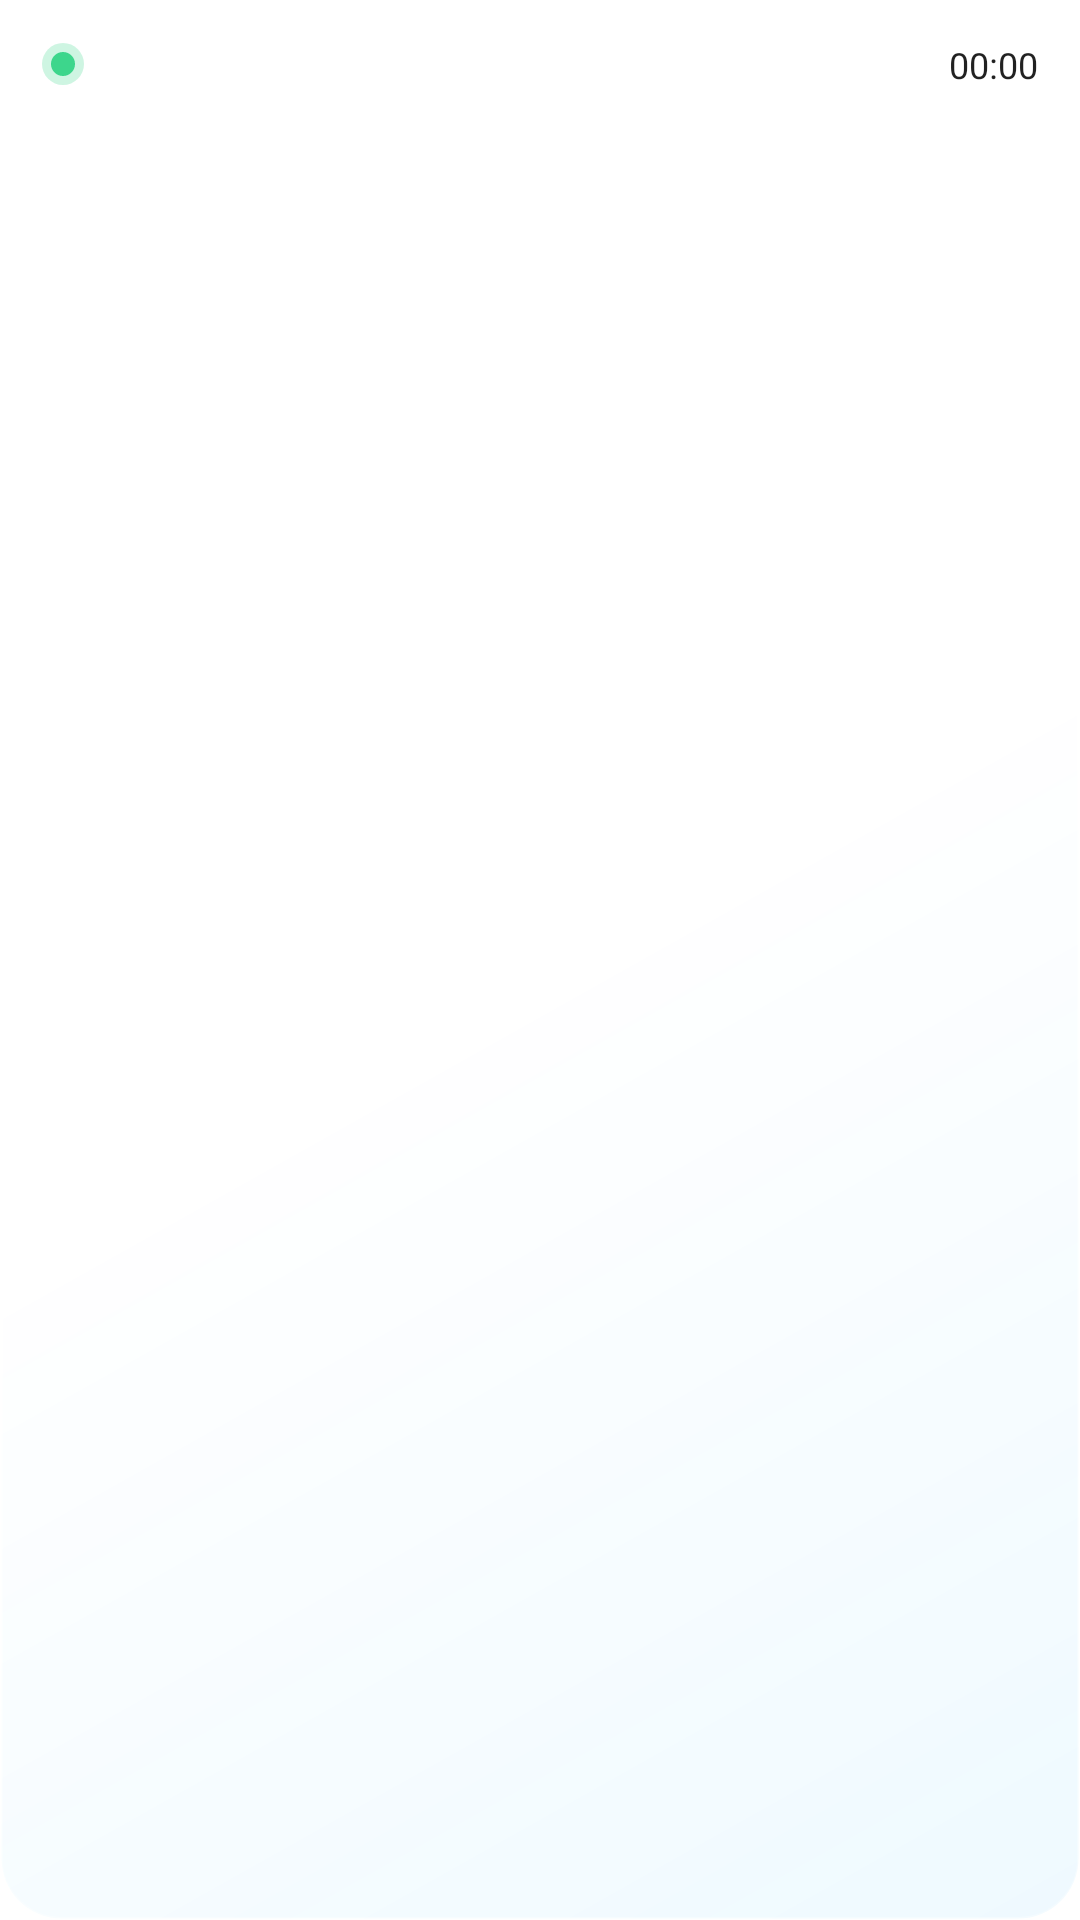

Icon bounding boxes for this 1080 x 1920 phone screenshot, format (x1, y1, x2, y2):
sora dot on: (42, 43, 84, 85)
